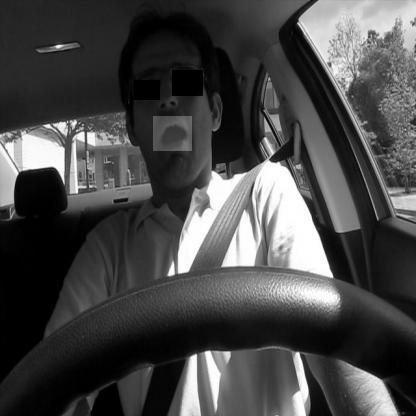seatbelt: (113, 2, 305, 416)
